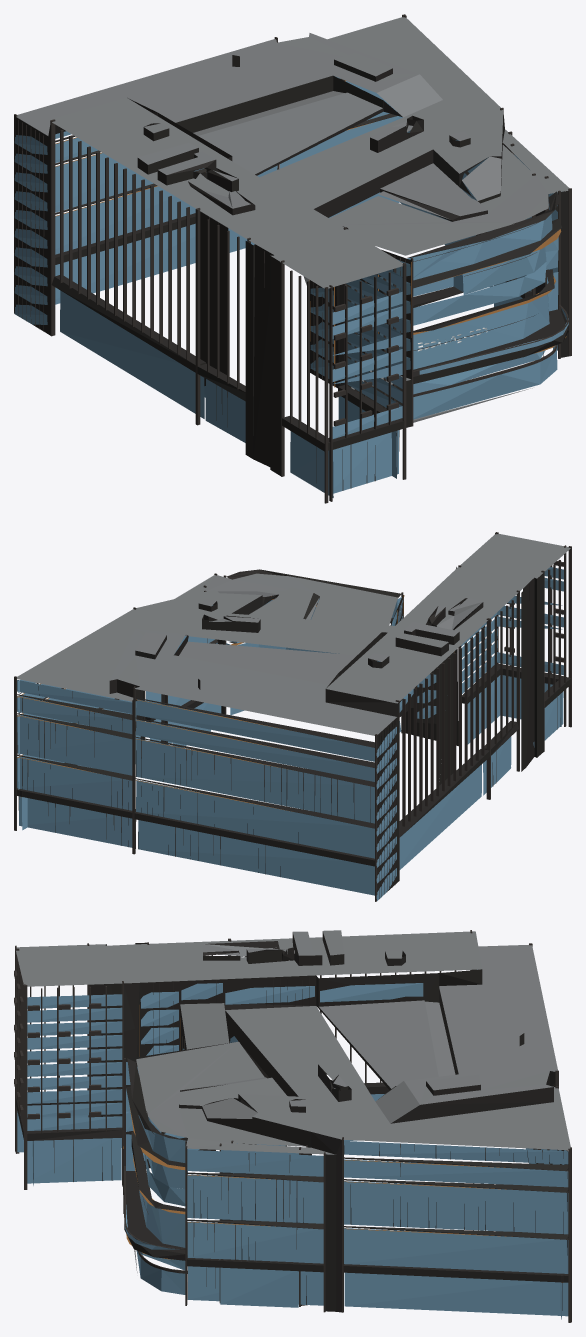
File: booking-hq.lod1.glb
3 views of the same model, one above another, from view 1: azimuth 30°, elevation 25°; view 2: azimuth 150°, elevation 25°; view 3: azimuth 270°, elevation 25° (orthographic). The views are drawn at different scales.
Visible parts, largest first — view 1: booking-hq; view 2: booking-hq; view 3: booking-hq.
Boxes of the visible parts, x1,y1,x2,y2 form: booking-hq: (14,14,571,503); booking-hq: (14,532,571,901); booking-hq: (14,930,571,1322).
Size of the model in its own units: 96.54 by 50.63 by 119.
